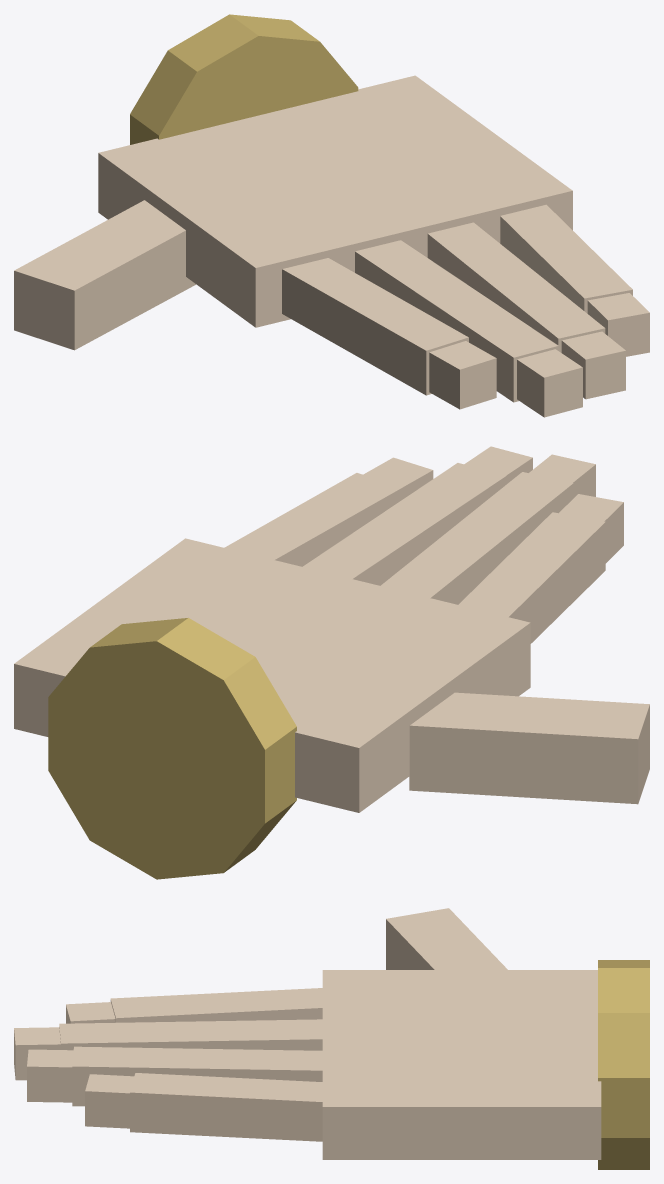
Rendered from hand.glb.
The picture shows the model from 3 angles, top to bottom: view 1: azimuth 30°, elevation 25°; view 2: azimuth 150°, elevation 25°; view 3: azimuth 270°, elevation 25°; orthographic projection. The views are drawn at different scales.
Parts seen in each view (by area): view 1: palm, cuff, thumb_bone, finger_0_bone, finger_1_bone, finger_2_bone, finger_3_bone, finger_0_tip, finger_1_tip, finger_2_tip, finger_3_tip; view 2: palm, cuff, thumb_bone, finger_1_bone, finger_0_bone, finger_2_bone, finger_3_bone, finger_0_tip, finger_1_tip, finger_3_tip, finger_2_tip; view 3: palm, finger_3_bone, cuff, finger_2_bone, finger_1_bone, finger_0_bone, thumb_bone, finger_2_tip, finger_3_tip, finger_1_tip, finger_0_tip.
Part boxes in pixels (x1=…): palm: x1=98, y1=75, x2=572, y2=327; cuff: x1=130, y1=14, x2=358, y2=144; thumb_bone: x1=14, y1=200, x2=195, y2=350; finger_0_bone: x1=282, y1=258, x2=468, y2=395; finger_1_bone: x1=355, y1=240, x2=558, y2=402; finger_2_bone: x1=427, y1=222, x2=605, y2=352; finger_3_bone: x1=500, y1=204, x2=632, y2=313; finger_0_tip: x1=429, y1=341, x2=496, y2=409; finger_1_tip: x1=517, y1=349, x2=582, y2=417; finger_2_tip: x1=561, y1=331, x2=625, y2=399; finger_3_tip: x1=587, y1=293, x2=649, y2=356; palm: x1=14, y1=538, x2=530, y2=812; cuff: x1=48, y1=618, x2=296, y2=879; thumb_bone: x1=409, y1=692, x2=649, y2=804; finger_1_bone: x1=380, y1=472, x2=573, y2=604; finger_0_bone: x1=458, y1=512, x2=605, y2=643; finger_2_bone: x1=302, y1=463, x2=506, y2=585; finger_3_bone: x1=224, y1=473, x2=402, y2=566; finger_0_tip: x1=559, y1=494, x2=623, y2=563; finger_1_tip: x1=529, y1=454, x2=595, y2=497; finger_3_tip: x1=363, y1=457, x2=433, y2=498; finger_2_tip: x1=464, y1=446, x2=532, y2=483; palm: x1=322, y1=970, x2=601, y2=1159; finger_3_bone: x1=130, y1=1073, x2=322, y2=1141; cuff: x1=598, y1=960, x2=649, y2=1169; finger_2_bone: x1=72, y1=1046, x2=322, y2=1106; finger_1_bone: x1=59, y1=1019, x2=322, y2=1050; finger_0_bone: x1=110, y1=988, x2=322, y2=1022; thumb_bone: x1=386, y1=908, x2=507, y2=969; finger_2_tip: x1=27, y1=1049, x2=73, y2=1102; finger_3_tip: x1=85, y1=1074, x2=134, y2=1128; finger_1_tip: x1=14, y1=1027, x2=60, y2=1080; finger_0_tip: x1=66, y1=1002, x2=115, y2=1023.
Bounding box in the file's own units: 1.54 × 0.66 × 1.96.
